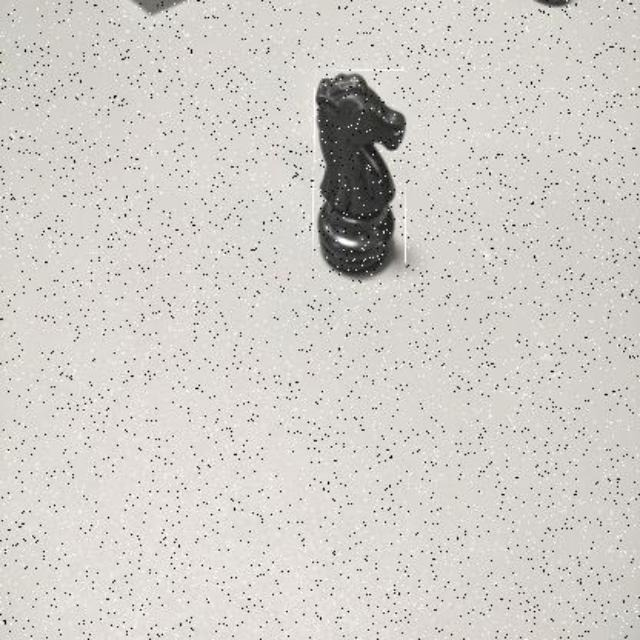black-knight: (313, 71, 406, 279)
